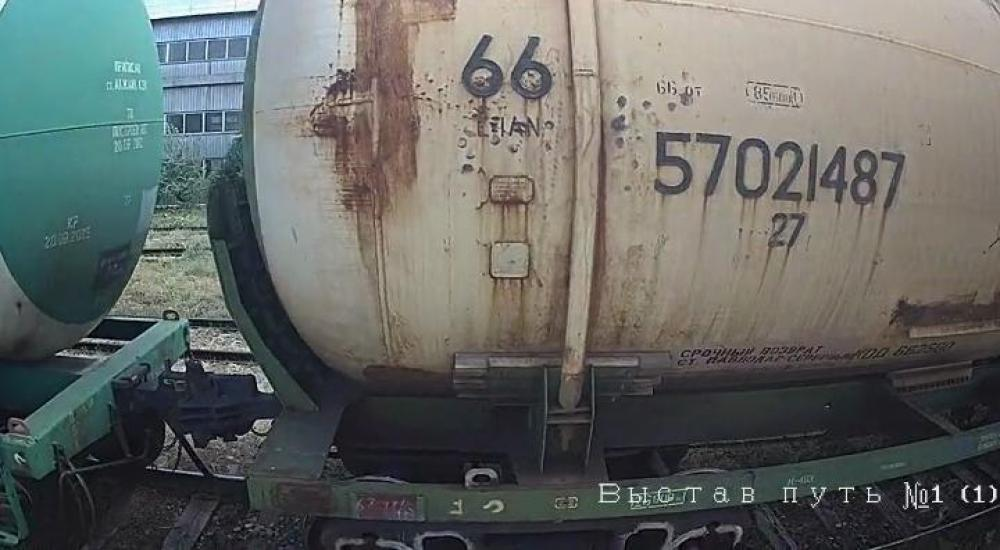Wagon-number: (648, 128, 908, 209)
